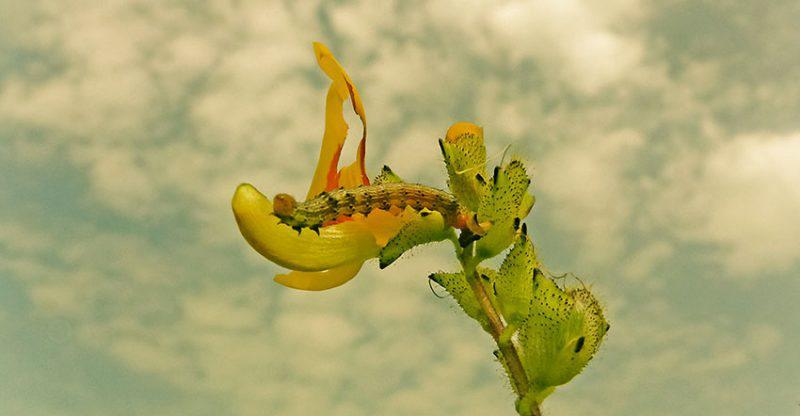caterpillars: (239, 133, 482, 258)
